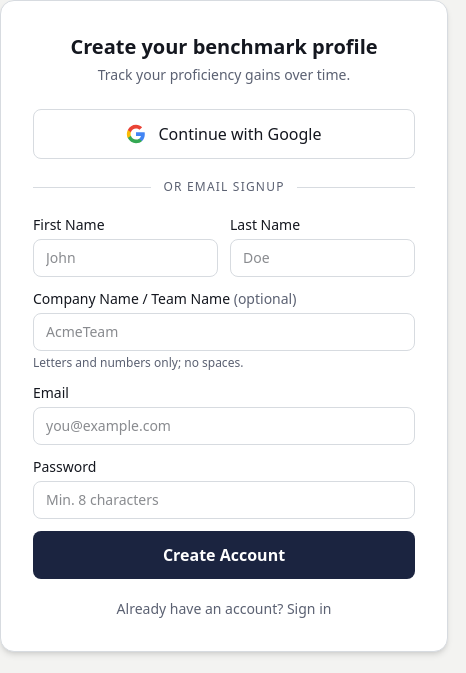
Test: HomeSignupForm › prevents spaces and special characters in company/team name
This screenshot has width=466, height=673.
In the field labelled "Company Name / Team Name (optional)": (224, 332) [33, 313, 415, 351], type "Acme Team!_42"
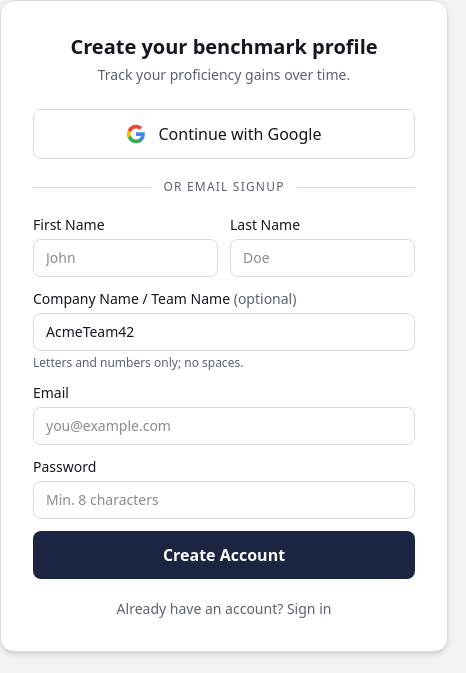
Result: the field labelled "Company Name / Team Name (optional)" holds "AcmeTeam42" at [33, 313, 415, 351]
